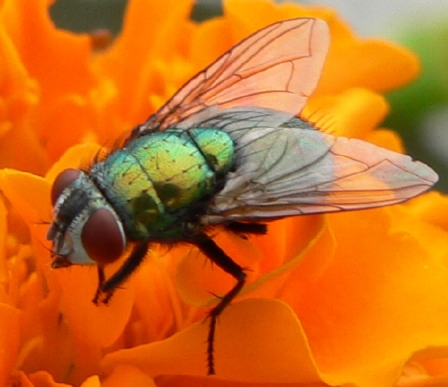green bottles flies: (28, 11, 440, 372)
